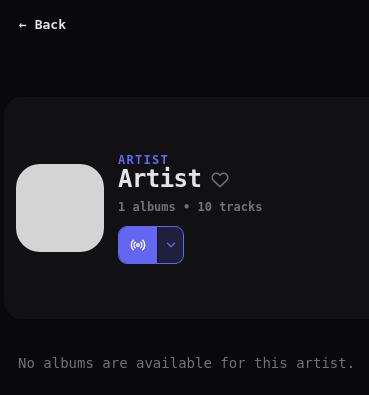
it: MobileBrowseView › Artist Radio › starts a radio from the artist page and queues it with the radio source
The width and height of the screenshot is (369, 395).
Click the button named "Play Artist Radio". click: point(138, 245)
box: x1=119 y1=227 x2=157 y2=263
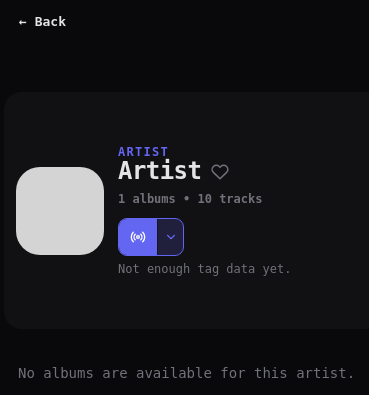
Check: the message with test id "radio-notice" reads "Not enough tag data yet.", box x1=118 y1=262 x2=291 y2=276
